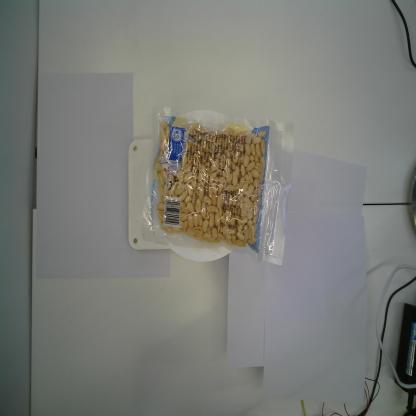Dried Fruit: (141, 105, 294, 266)
